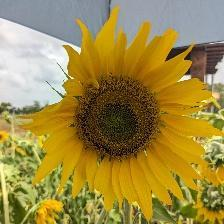sunflower: (18, 5, 224, 222)
